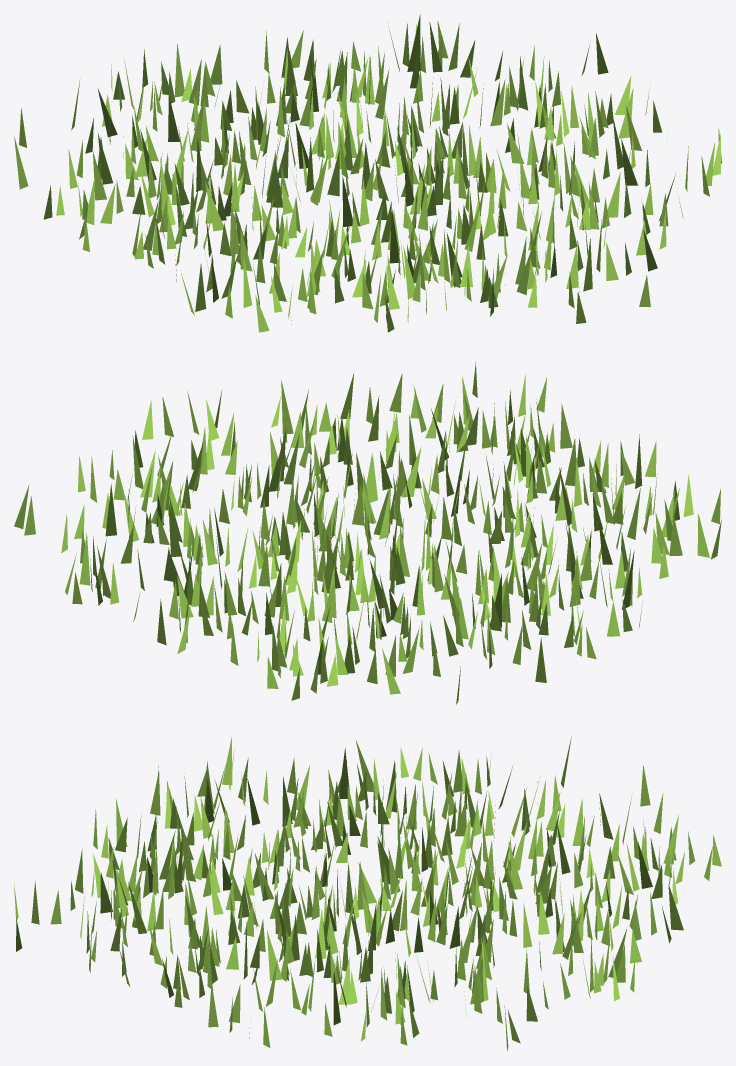
Rendered from GrassB.glb.
3 renders of one model, top to bottom at view 1: azimuth 30°, elevation 25°; view 2: azimuth 150°, elevation 25°; view 3: azimuth 270°, elevation 25°, orthographic. The views are drawn at different scales.
Parts seen in each view (by area): view 1: GrassB.bladesMid, GrassB.bladesDark, GrassB.bladesLight; view 2: GrassB.bladesMid, GrassB.bladesDark, GrassB.bladesLight; view 3: GrassB.bladesMid, GrassB.bladesDark, GrassB.bladesLight.
Boxes of the visible parts, left/top/right/bottom form: GrassB.bladesMid: left=43, top=23, right=715, bottom=332; GrassB.bladesDark: left=14, top=14, right=709, bottom=321; GrassB.bladesLight: left=56, top=21, right=721, bottom=324; GrassB.bladesMid: left=61, top=373, right=721, bottom=694; GrassB.bladesDark: left=14, top=362, right=682, bottom=704; GrassB.bladesLight: left=65, top=376, right=709, bottom=700; GrassB.bladesMid: left=14, top=737, right=712, bottom=1045; GrassB.bladesDark: left=16, top=736, right=695, bottom=1051; GrassB.bladesLight: left=70, top=747, right=721, bottom=1047.
Size of the model in its own units: 7.8 by 0.6996 by 8.48.
